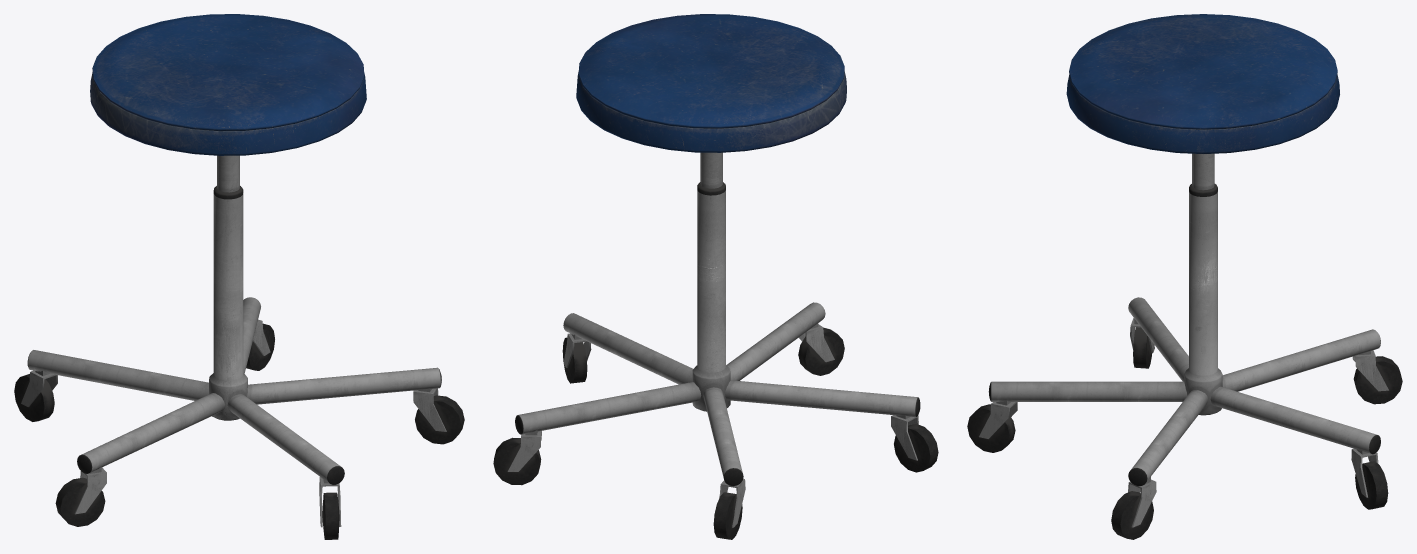
The model's file is Stool.fbx.
The picture shows the model from 3 angles, left to right: view 1: azimuth 30°, elevation 25°; view 2: azimuth 150°, elevation 25°; view 3: azimuth 270°, elevation 25°; orthographic projection. The views are drawn at different scales.
Visible parts, largest first — view 1: Stool; view 2: Stool; view 3: Stool.
Part boxes in pixels (x1,y1,x2,y2): Stool: (14, 14, 464, 539); Stool: (493, 14, 938, 539); Stool: (967, 14, 1402, 539).
Size of the model in its own units: 56.61 by 54.09 by 54.88.
